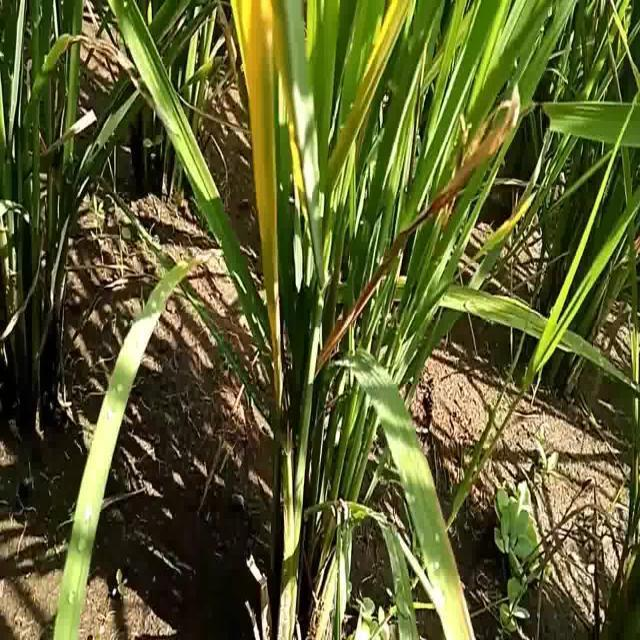Rice Tungro: (226, 3, 300, 410), (329, 5, 415, 166)
